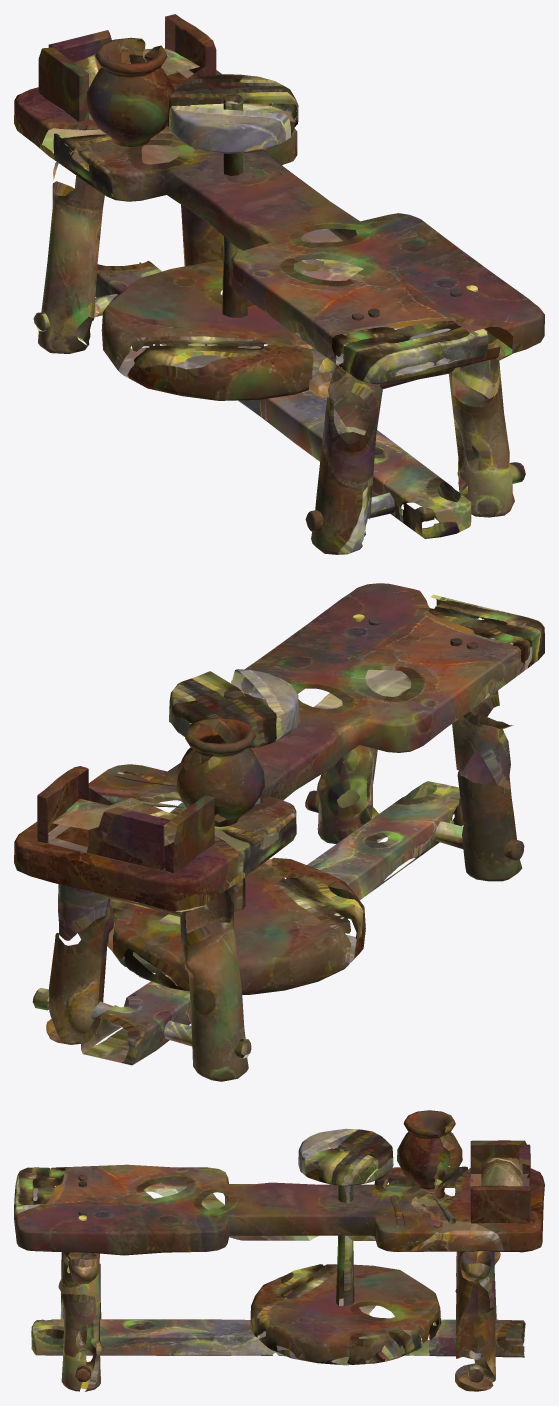
3 renders of one model, top to bottom at view 1: azimuth 30°, elevation 25°; view 2: azimuth 150°, elevation 25°; view 3: azimuth 270°, elevation 25°, orthographic. The views are drawn at different scales.
Visible parts, largest first — view 1: SM_Poison_Rock_LOD0; view 2: SM_Poison_Rock_LOD0; view 3: SM_Poison_Rock_LOD0.
Part boxes in pixels (<box>): SM_Poison_Rock_LOD0: <box>14,14,544,554</box>; SM_Poison_Rock_LOD0: <box>14,583,544,1081</box>; SM_Poison_Rock_LOD0: <box>14,1110,544,1391</box>.
Size of the model in its own units: 0.6868 by 0.8883 by 1.91.
